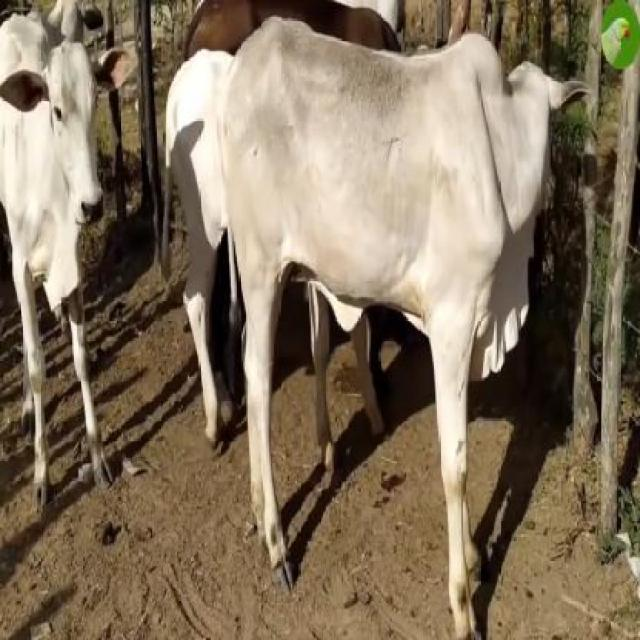Cow: (218, 17, 584, 638), (0, 15, 140, 511)
